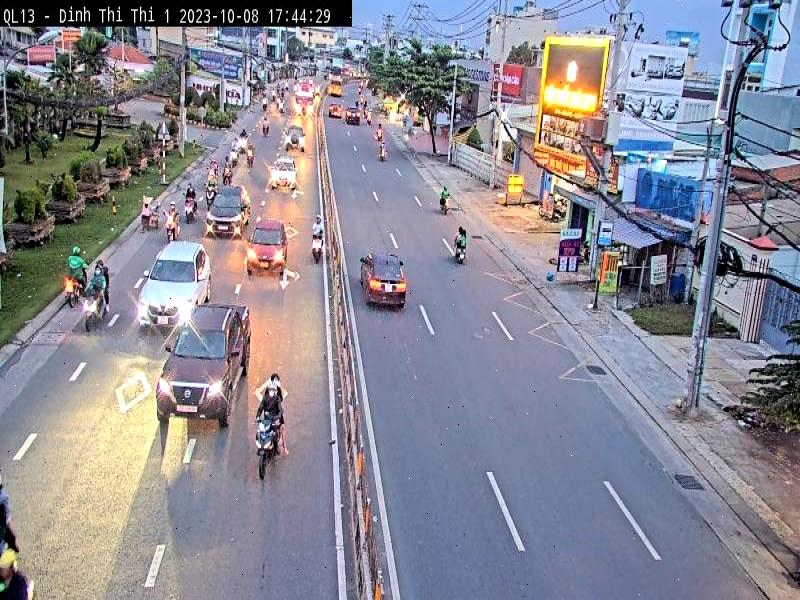car: (156, 301, 252, 430), (137, 240, 212, 335), (360, 253, 408, 310), (247, 221, 288, 278), (206, 185, 249, 239), (269, 159, 298, 192), (284, 124, 306, 154), (345, 106, 362, 127), (329, 100, 342, 118)
motorcycle: (255, 417, 280, 481), (82, 285, 108, 334), (65, 264, 87, 309), (163, 212, 181, 244), (312, 231, 323, 264), (184, 197, 197, 224), (206, 184, 218, 211), (453, 242, 466, 264), (440, 196, 448, 215)
